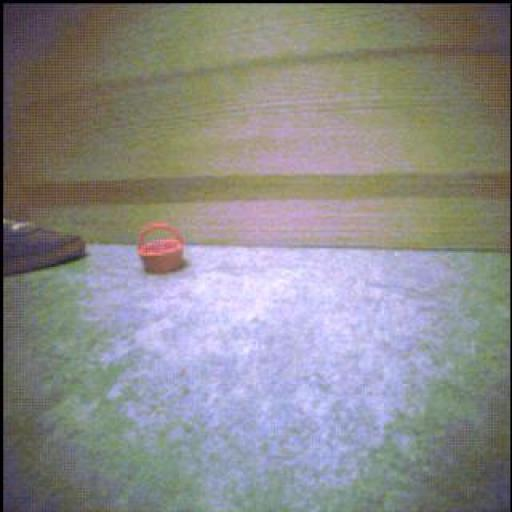Bucket: (139, 224, 185, 275)
